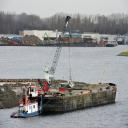tugboat: (11, 82, 45, 121)
